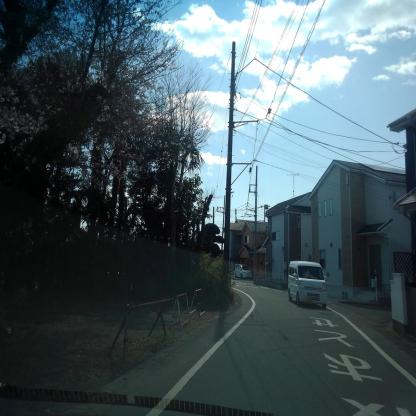Someiyoshino: (0, 0, 185, 240)
